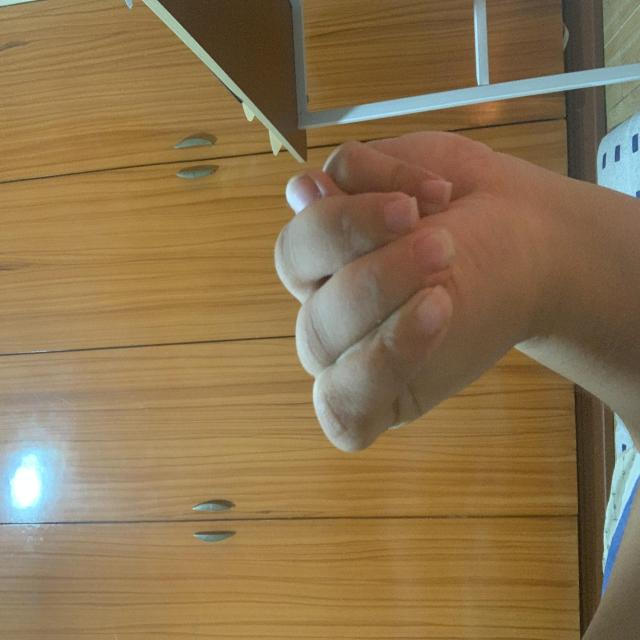M: (127, 273, 455, 549)
